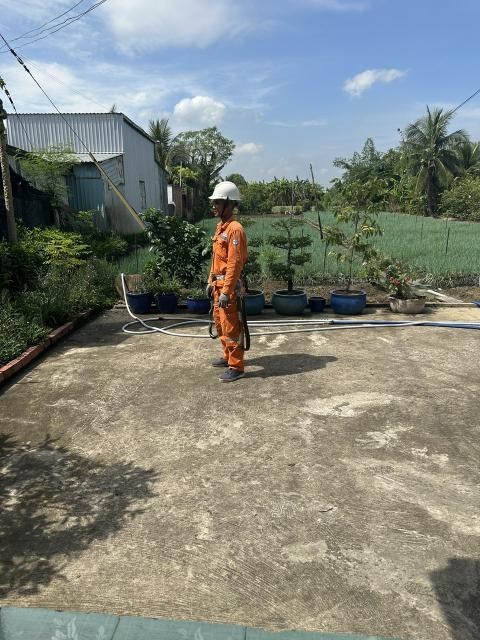gloves: (216, 291, 231, 309), (200, 283, 215, 300)
helmet: (203, 177, 247, 208)
shoes: (218, 359, 244, 384), (208, 353, 236, 367)
